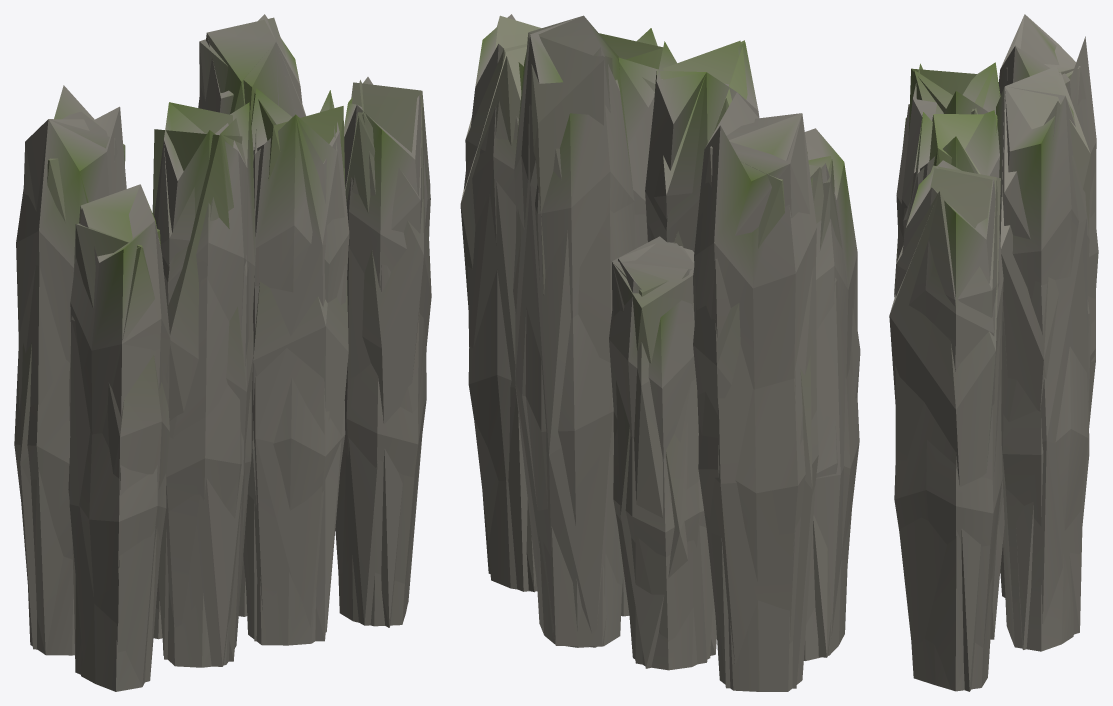
Rendered from Cliff.glb.
3 renders of one model, left to right at view 1: azimuth 30°, elevation 25°; view 2: azimuth 150°, elevation 25°; view 3: azimuth 270°, elevation 25°, orthographic. The views are drawn at different scales.
Parts seen in each view (by area): view 1: Cliff_L0, Cliff_L1, Cliff_L2; view 2: Cliff_L0, Cliff_L1, Cliff_L2; view 3: Cliff_L0, Cliff_L1, Cliff_L2.
Boxes of the visible parts, left/top/right/bottom form: Cliff_L0: left=14, top=14, right=430, bottom=691; Cliff_L1: left=18, top=17, right=430, bottom=686; Cliff_L2: left=20, top=39, right=431, bottom=682; Cliff_L0: left=464, top=14, right=859, bottom=691; Cliff_L1: left=465, top=15, right=857, bottom=679; Cliff_L2: left=460, top=15, right=860, bottom=688; Cliff_L0: left=894, top=14, right=1096, bottom=691; Cliff_L1: left=895, top=15, right=1096, bottom=691; Cliff_L2: left=889, top=67, right=1098, bottom=691.
Size of the model in its own units: 8.1 by 12 by 4.11.
